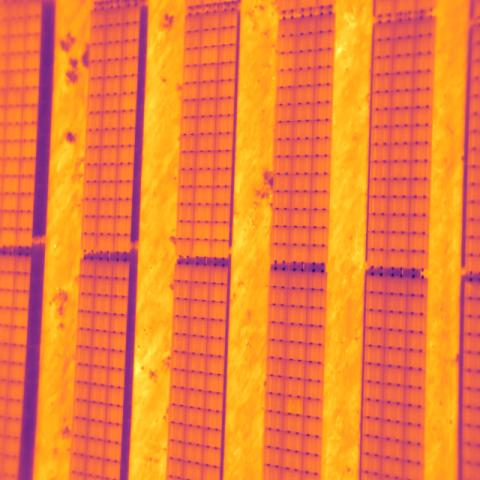fault: (283, 396, 304, 416)
